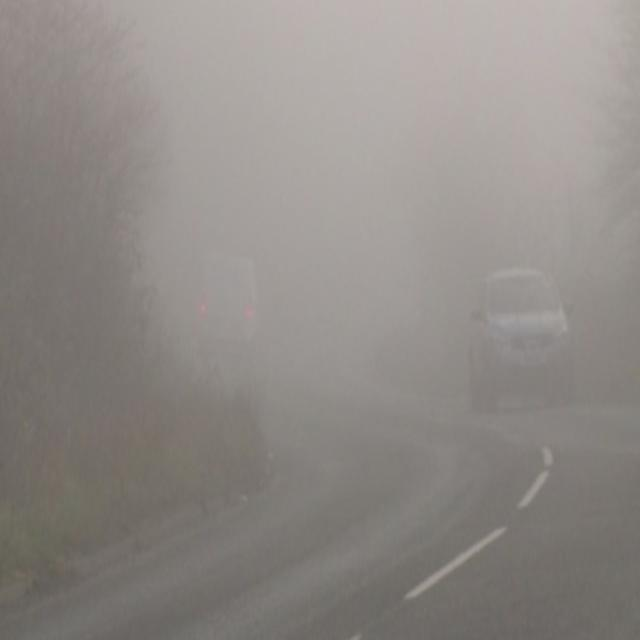car: (472, 268, 574, 412), (198, 245, 260, 363)
